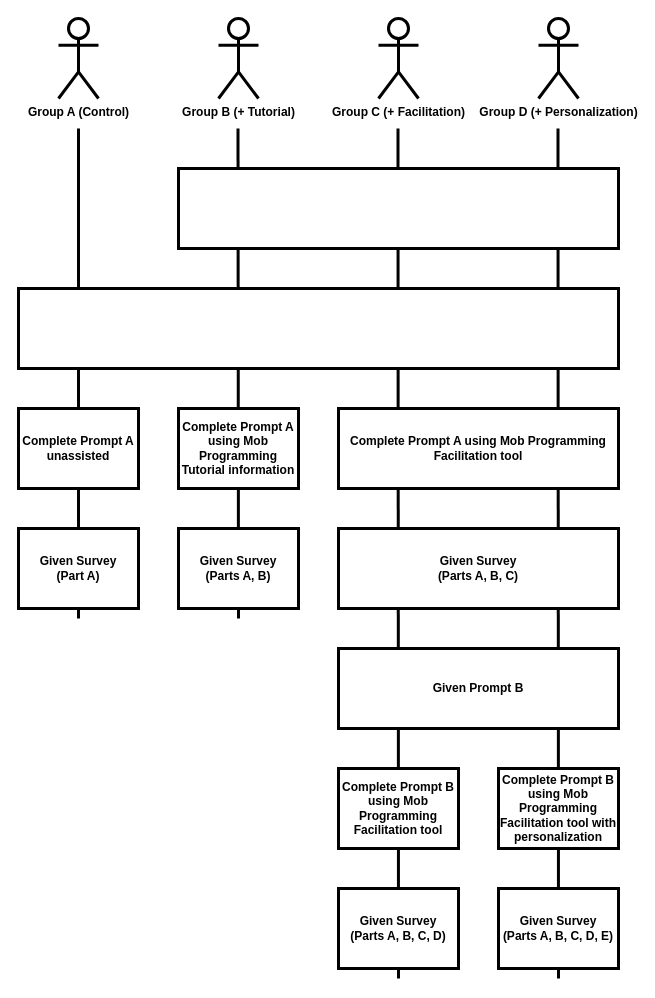
The diagram is 655 pixels wide and 998 high, and some of its shapes have lost their labels. Each missing label, with the centre of its shape:
Given Mob Programming Tutorial Material: the point at 398,208
Given Prompt A: the point at 318,328
